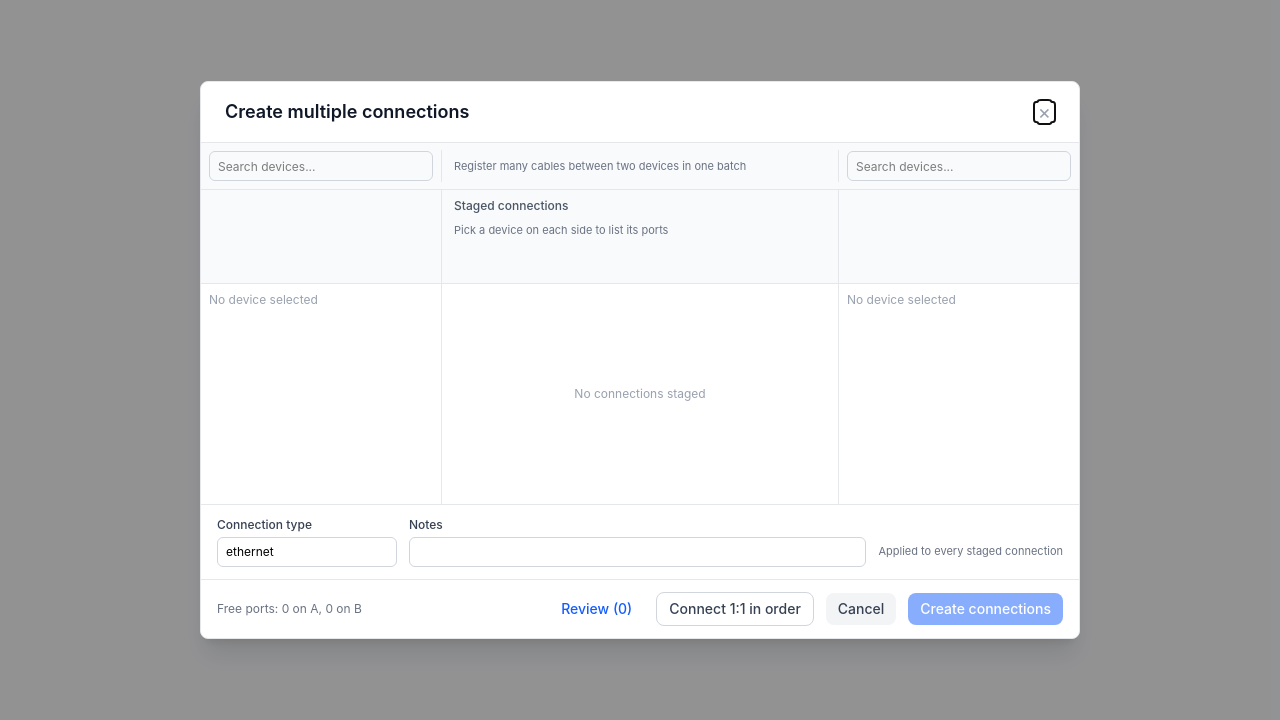
MultiConnectDialog › Connect 1:1 in order refuses before both devices are picked
This screenshot has width=1280, height=720.
Click the button "Connect 1:1 in order". click: (735, 609)
box: [656,592,814,626]
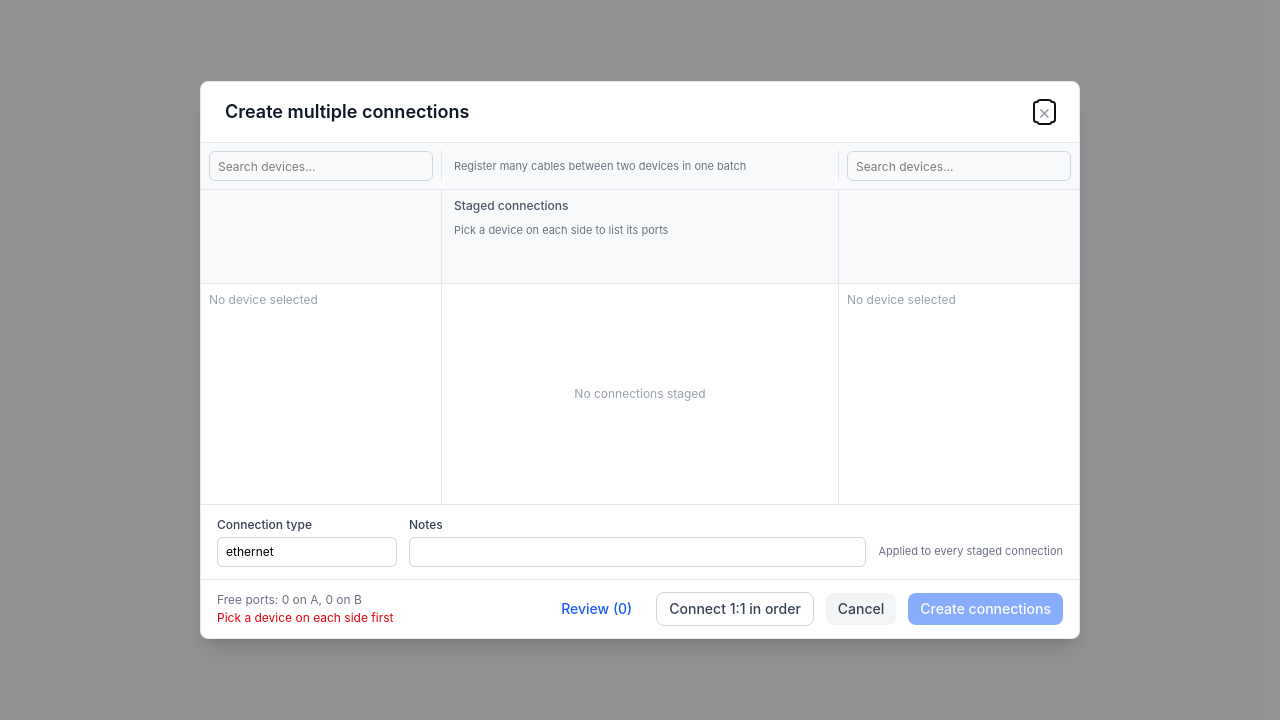
Expected: the text "Pick a device on each side first" is shown, [217,610,393,625]
